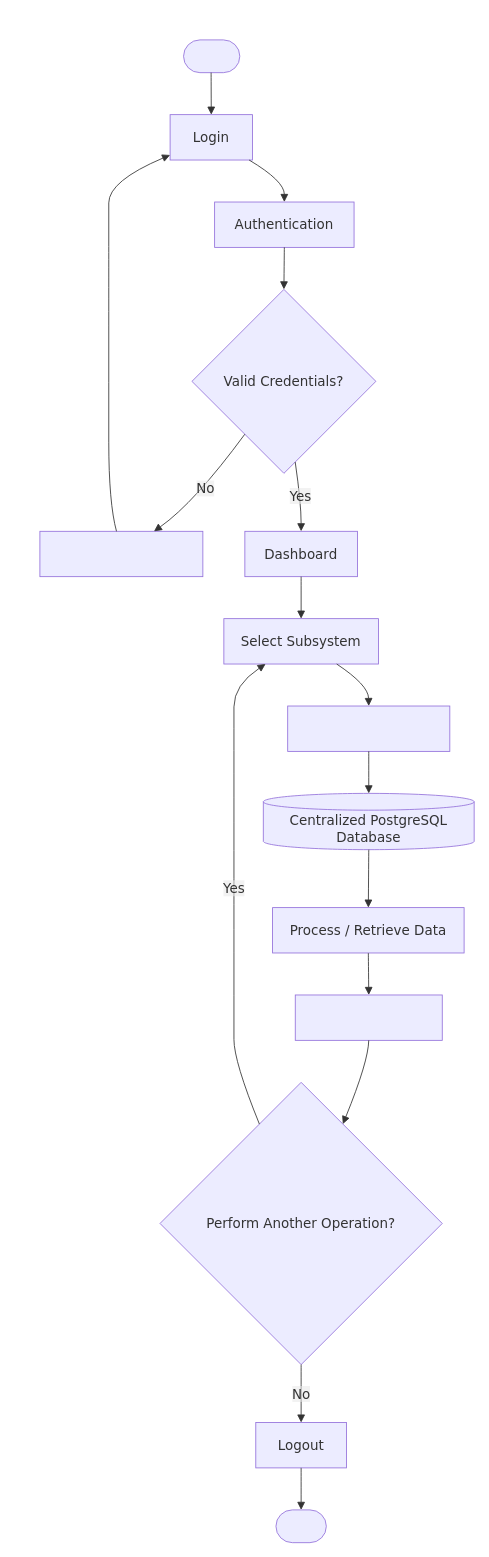
Image size: 489x1557. Some labels were removed from this diagram. Each missing label, with the centre of its shape:
Display Login Error: pixel 121 553
END: pixel 300 1526
Generate Result: pixel 368 1017
Perform Operation: pixel 368 728
START: pixel 211 56
